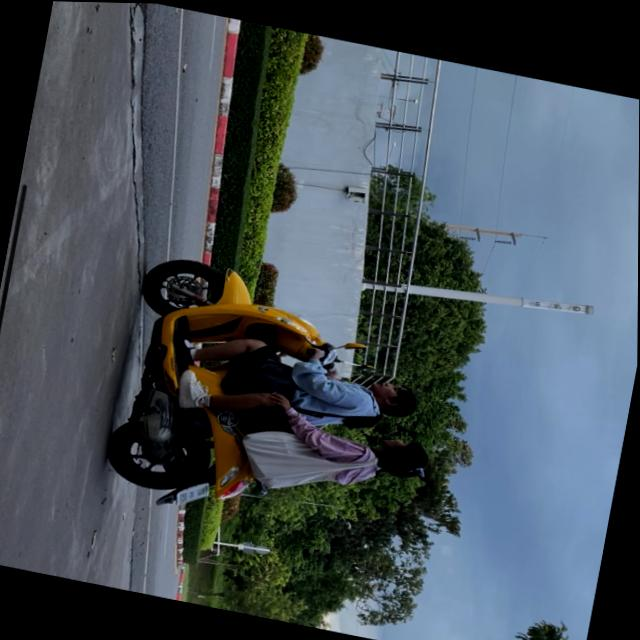seatbelt: (374, 432, 433, 481), (363, 375, 420, 420)
